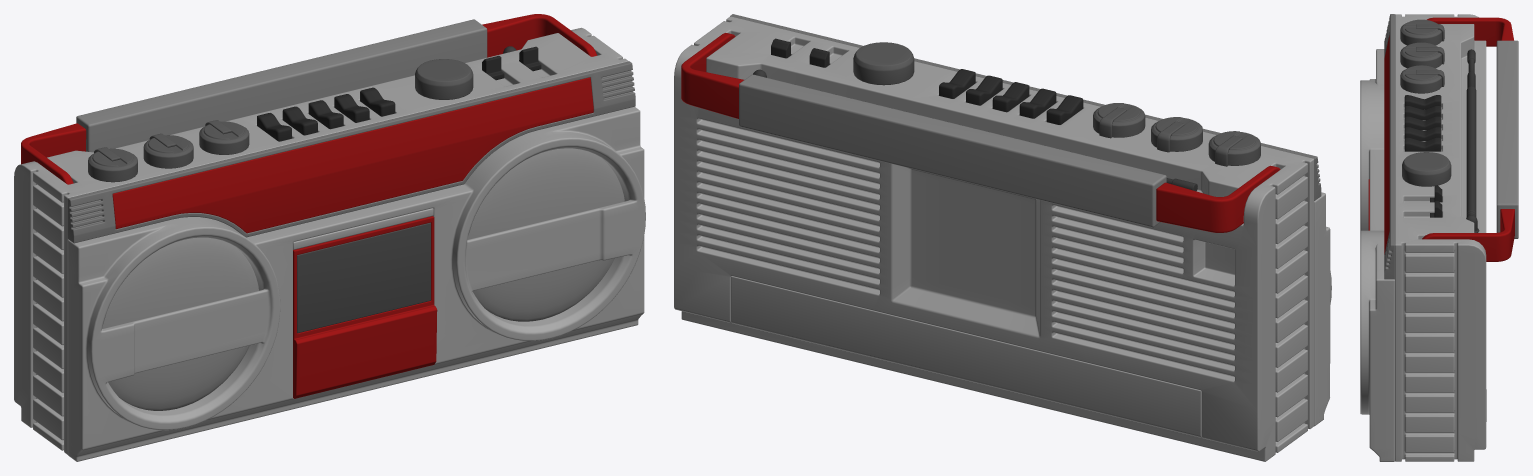
Rendered from boombox.fbx.
3 renders of one model, left to right at view 1: azimuth 30°, elevation 25°; view 2: azimuth 150°, elevation 25°; view 3: azimuth 270°, elevation 25°, orthographic. The views are drawn at different scales.
Parts seen in each view (by area): view 1: front_001_mesh, dial_mesh, body_mesh, handle_002_mesh, speaker_001_mesh, speaker_002_mesh, cassette_001_mesh, glass_mesh, front_003_mesh, handle_001_mesh, radial_button_001_mesh, handle_003_mesh (+8 smaller); view 2: body_mesh, handle_002_mesh, battery_mesh, handle_003_mesh, front_001_mesh, handle_001_mesh, radial_button_001_mesh, front_003_mesh, radial_button_004_mesh, radial_button_002_mesh, radial_button_003_mesh, button_004_mesh (+4 smaller); view 3: body_mesh, front_001_mesh, handle_002_mesh, front_003_mesh, antenna_mesh, handle_001_mesh, radial_button_001_mesh, handle_003_mesh, dial_mesh, radial_button_004_mesh, radial_button_002_mesh, radial_button_003_mesh (+8 smaller).
Part boxes in pixels (x1,y1,x2,y2): front_001_mesh: (68, 106, 645, 461); dial_mesh: (112, 77, 593, 233); body_mesh: (14, 27, 628, 454); handle_002_mesh: (76, 19, 487, 152); speaker_001_mesh: (467, 148, 624, 321); speaker_002_mesh: (102, 237, 258, 410); cassette_001_mesh: (293, 216, 437, 398); glass_mesh: (297, 222, 430, 333); front_003_mesh: (67, 61, 635, 243); handle_001_mesh: (482, 14, 597, 57); radial_button_001_mesh: (415, 59, 473, 99); handle_003_mesh: (21, 123, 86, 184); body_mesh: (674, 16, 1314, 461); handle_002_mesh: (739, 74, 1166, 227); battery_mesh: (731, 276, 1201, 437); handle_003_mesh: (1156, 165, 1280, 232); front_001_mesh: (1314, 192, 1331, 426); handle_001_mesh: (681, 33, 743, 118); radial_button_001_mesh: (853, 42, 914, 85); front_003_mesh: (730, 14, 1321, 200); radial_button_004_mesh: (1093, 103, 1145, 137); radial_button_002_mesh: (1208, 131, 1260, 165); radial_button_003_mesh: (1151, 117, 1202, 151); button_004_mesh: (1019, 88, 1056, 118); body_mesh: (1395, 14, 1486, 461); front_001_mesh: (1360, 49, 1394, 461); handle_002_mesh: (1496, 40, 1518, 238); front_003_mesh: (1384, 14, 1394, 279); antenna_mesh: (1466, 49, 1476, 216); handle_001_mesh: (1422, 209, 1514, 261); radial_button_001_mesh: (1402, 152, 1451, 186); handle_003_mesh: (1426, 17, 1513, 46); dial_mesh: (1384, 35, 1389, 254); radial_button_004_mesh: (1400, 65, 1441, 93); radial_button_002_mesh: (1400, 19, 1441, 45); radial_button_003_mesh: (1400, 42, 1441, 68).
Bounding box in the file's own units: 66.79 × 31.28 × 19.33.
